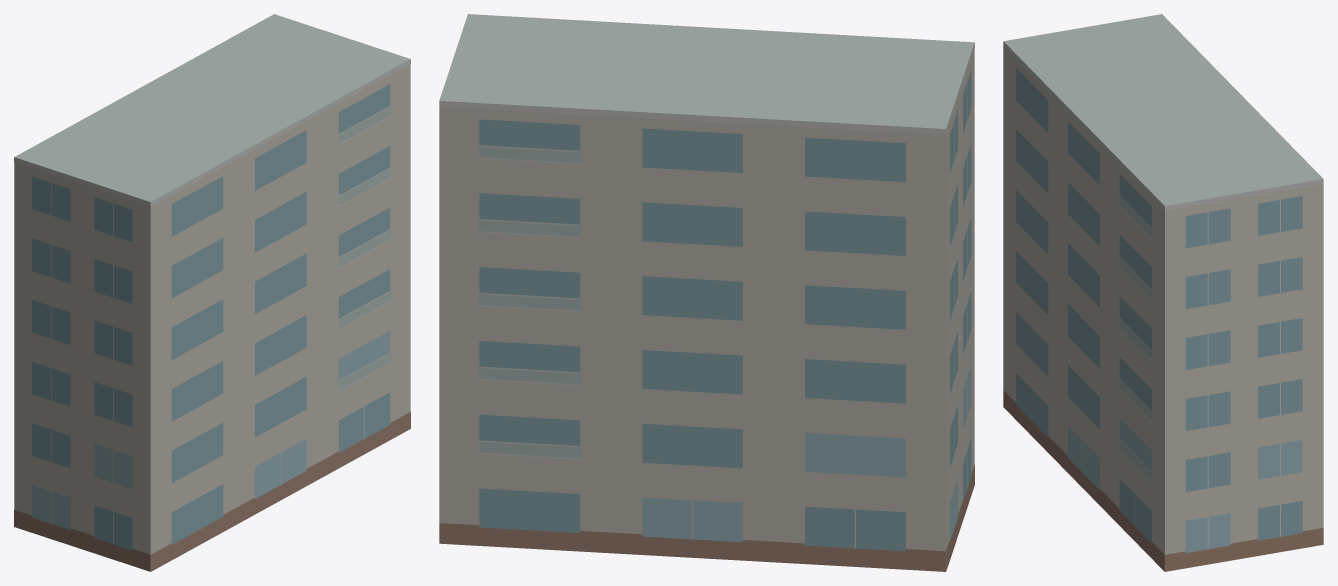
File: survey-upis-32646186.glb
3 views of the same model, side by side, from view 1: azimuth 30°, elevation 25°; view 2: azimuth 150°, elevation 25°; view 3: azimuth 270°, elevation 25° (orthographic). The views are drawn at different scales.
Parts seen in each view (by area): view 1: survey-upis-32646186.tmp; view 2: survey-upis-32646186.tmp; view 3: survey-upis-32646186.tmp.
Part boxes in pixels (box(x1,y1,x2,y2)): survey-upis-32646186.tmp: box(14, 14, 410, 571); survey-upis-32646186.tmp: box(439, 14, 974, 571); survey-upis-32646186.tmp: box(1003, 14, 1323, 571).
Size of the model in its own units: 20.62 by 18.3 by 14.53.
